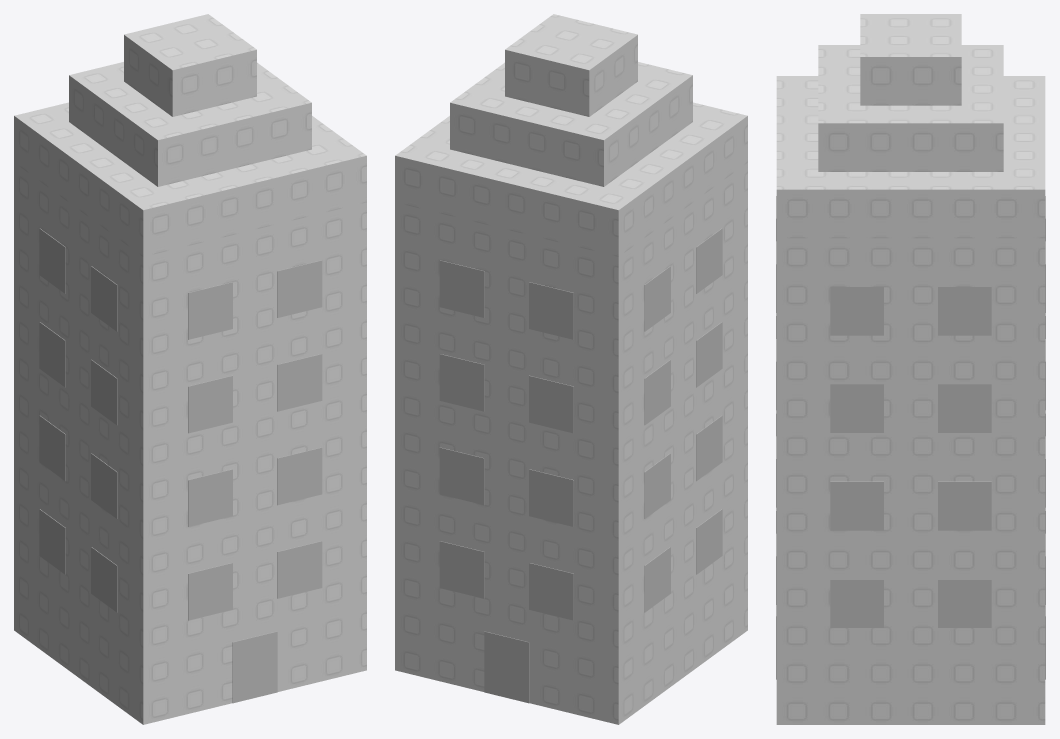
The model's file is 4FloorB.FBX.
The picture shows the model from 3 angles, left to right: view 1: azimuth 30°, elevation 25°; view 2: azimuth 150°, elevation 25°; view 3: azimuth 270°, elevation 25°; orthographic projection. The views are drawn at different scales.
Parts seen in each view (by area): view 1: qiang, wuding, chuang, men; view 2: qiang, wuding, chuang, men; view 3: qiang, wuding, chuang.
Part boxes in pixels (x1,y1,x2,y2): qiang: (14, 162, 366, 724); wuding: (14, 14, 366, 256); chuang: (39, 228, 322, 620); men: (232, 631, 277, 703); qiang: (395, 162, 747, 724); wuding: (395, 14, 747, 256); chuang: (439, 228, 722, 620); men: (484, 631, 529, 703); qiang: (776, 238, 1045, 724); wuding: (776, 14, 1045, 238); chuang: (776, 196, 1045, 627).
Bounding box in the file's own units: 6.46 × 16.71 × 6.46.
